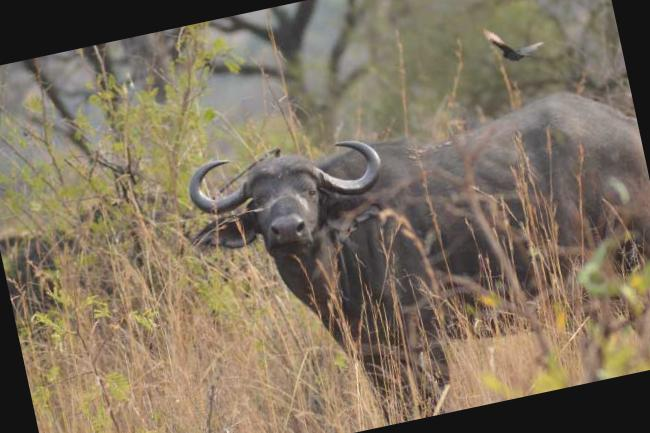Buffalo: (117, 0, 650, 424)
